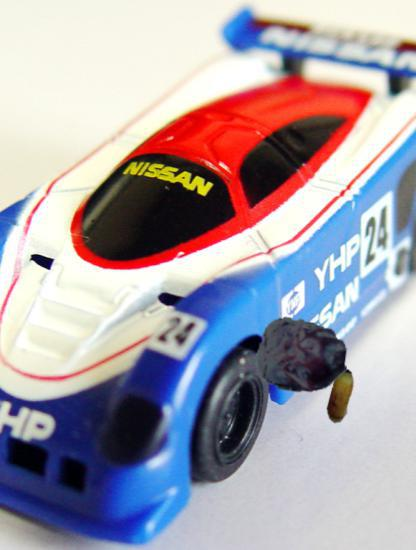Banana: (313, 368, 369, 424)
Dates: (256, 310, 348, 402)
